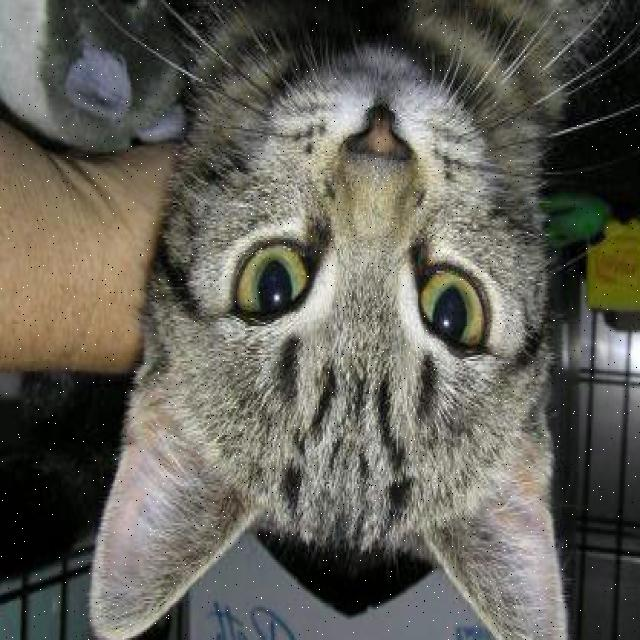Cat: (80, 14, 583, 640)
